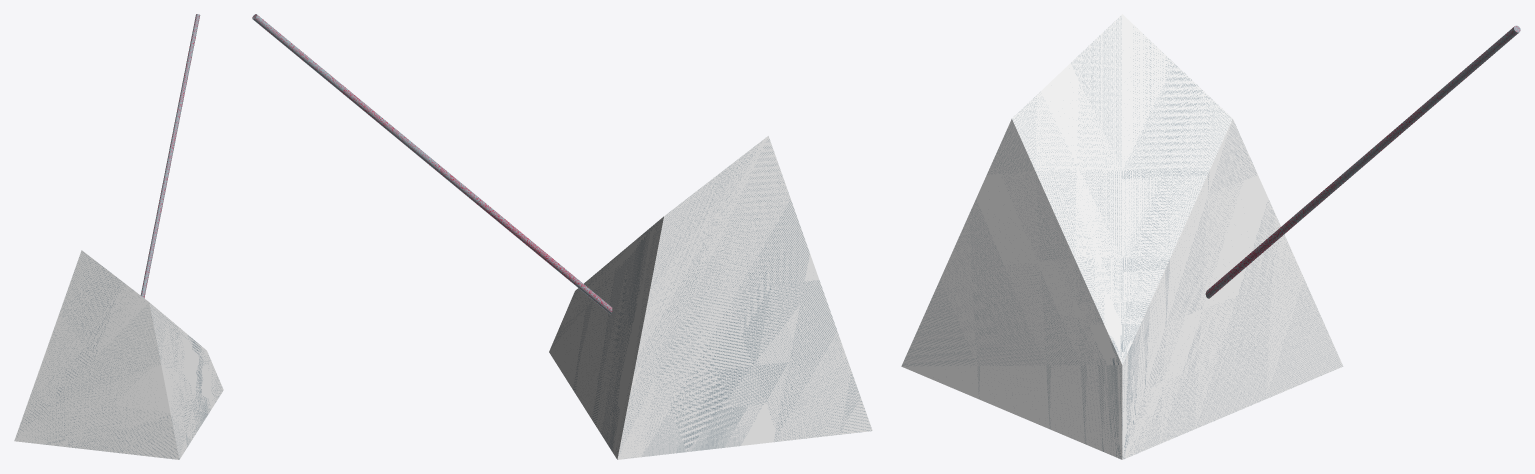
File: 23iso.fbx
3 views of the same model, side by side, from view 1: azimuth 30°, elevation 25°; view 2: azimuth 150°, elevation 25°; view 3: azimuth 270°, elevation 25° (orthographic). The views are drawn at different scales.
Parts seen in each view (by area): view 1: Model; view 2: Model; view 3: Model.
Boxes of the visible parts, x1=… form: Model: x1=14, y1=14, x2=223, y2=459; Model: x1=252, y1=14, x2=872, y2=459; Model: x1=901, y1=14, x2=1520, y2=459.
Bounding box in the file's own units: 7.92 × 7.16 × 7.92.
